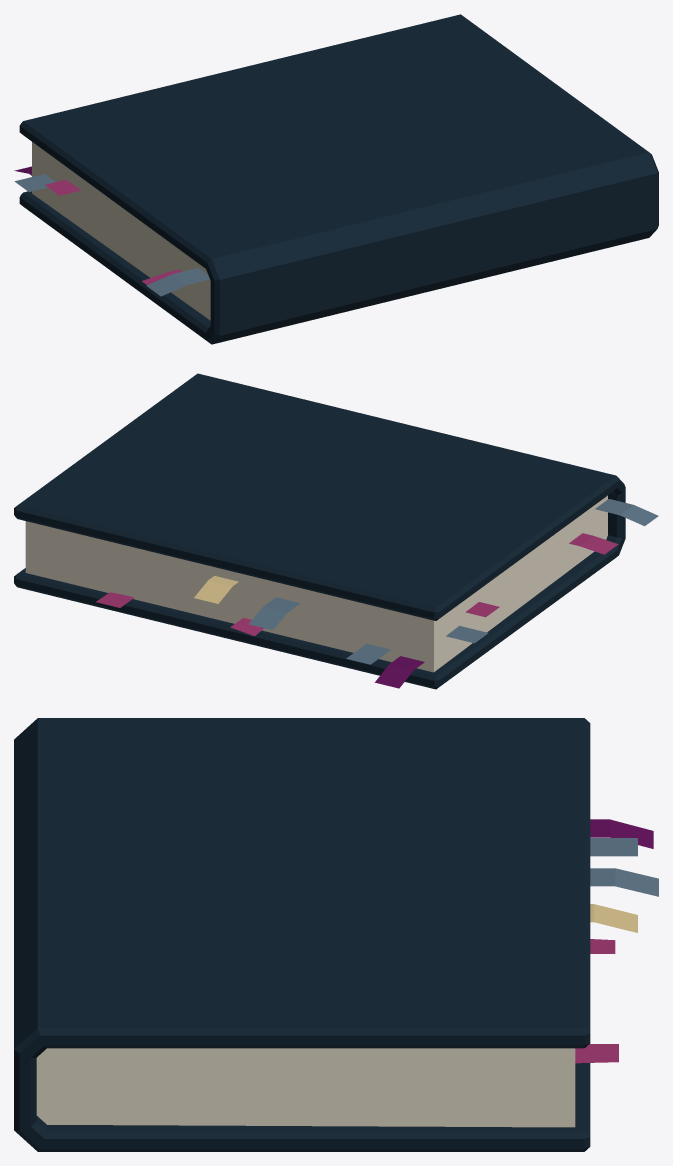
Rendered from SM_Book3.fbx.
3 renders of one model, top to bottom at view 1: azimuth 30°, elevation 25°; view 2: azimuth 150°, elevation 25°; view 3: azimuth 270°, elevation 25°, orthographic. The views are drawn at different scales.
Parts seen in each view (by area): view 1: Cube.025; view 2: Cube.025; view 3: Cube.025.
Part boxes in pixels (bbox=[...]): Cube.025: bbox=[14, 14, 658, 344]; Cube.025: bbox=[14, 373, 658, 689]; Cube.025: bbox=[14, 718, 658, 1151].
Bounding box in the file's own units: 38.55 × 48.91 × 8.18.
